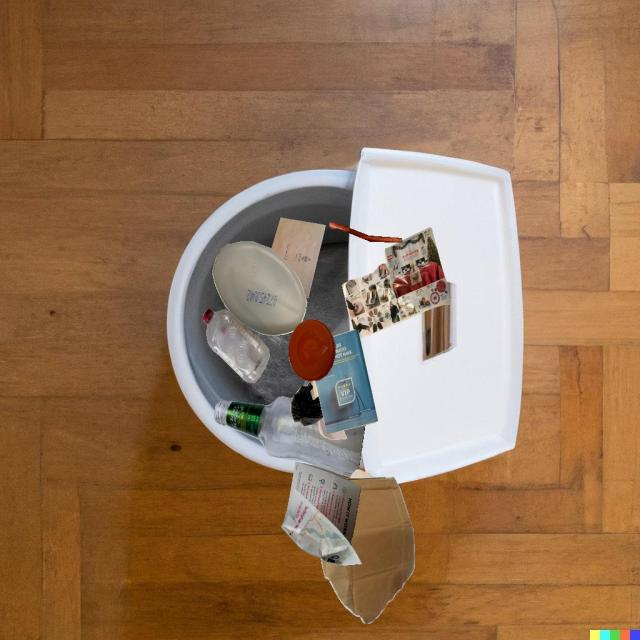biowaste: (329, 222, 403, 243)
cardboard: (321, 477, 415, 624)
glass: (214, 396, 365, 477)
paper: (342, 227, 451, 339), (281, 462, 362, 566), (315, 330, 378, 434), (271, 217, 326, 299), (318, 417, 347, 440), (350, 470, 374, 478), (311, 380, 319, 399)
plastic: (213, 241, 307, 336), (203, 309, 270, 383), (289, 319, 336, 381), (290, 383, 323, 427)
